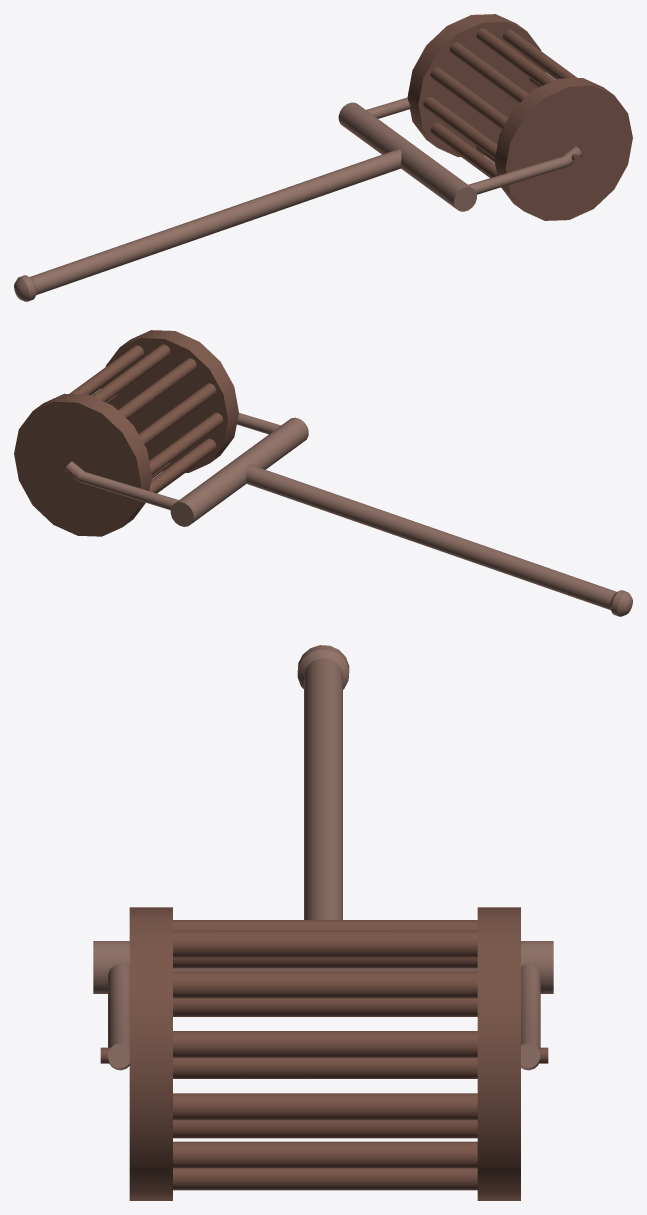
The model's file is Hand_Wheel.fbx.
3 renders of one model, top to bottom at view 1: azimuth 30°, elevation 25°; view 2: azimuth 150°, elevation 25°; view 3: azimuth 270°, elevation 25°, orthographic. The views are drawn at different scales.
Visible parts, largest first — view 1: Wheel, Hand_Wheel; view 2: Wheel, Hand_Wheel; view 3: Wheel, Hand_Wheel.
Part boxes in pixels (box(x1,y1,x2,y2)): Wheel: box(407, 14, 632, 220); Hand_Wheel: box(14, 97, 582, 301); Wheel: box(14, 330, 238, 536); Hand_Wheel: box(64, 413, 632, 616); Wheel: box(100, 907, 548, 1200); Hand_Wheel: box(93, 645, 553, 1070).
Size of the model in its own units: 59.25 by 13.3 by 20.82.
1 material, 1 textured.
